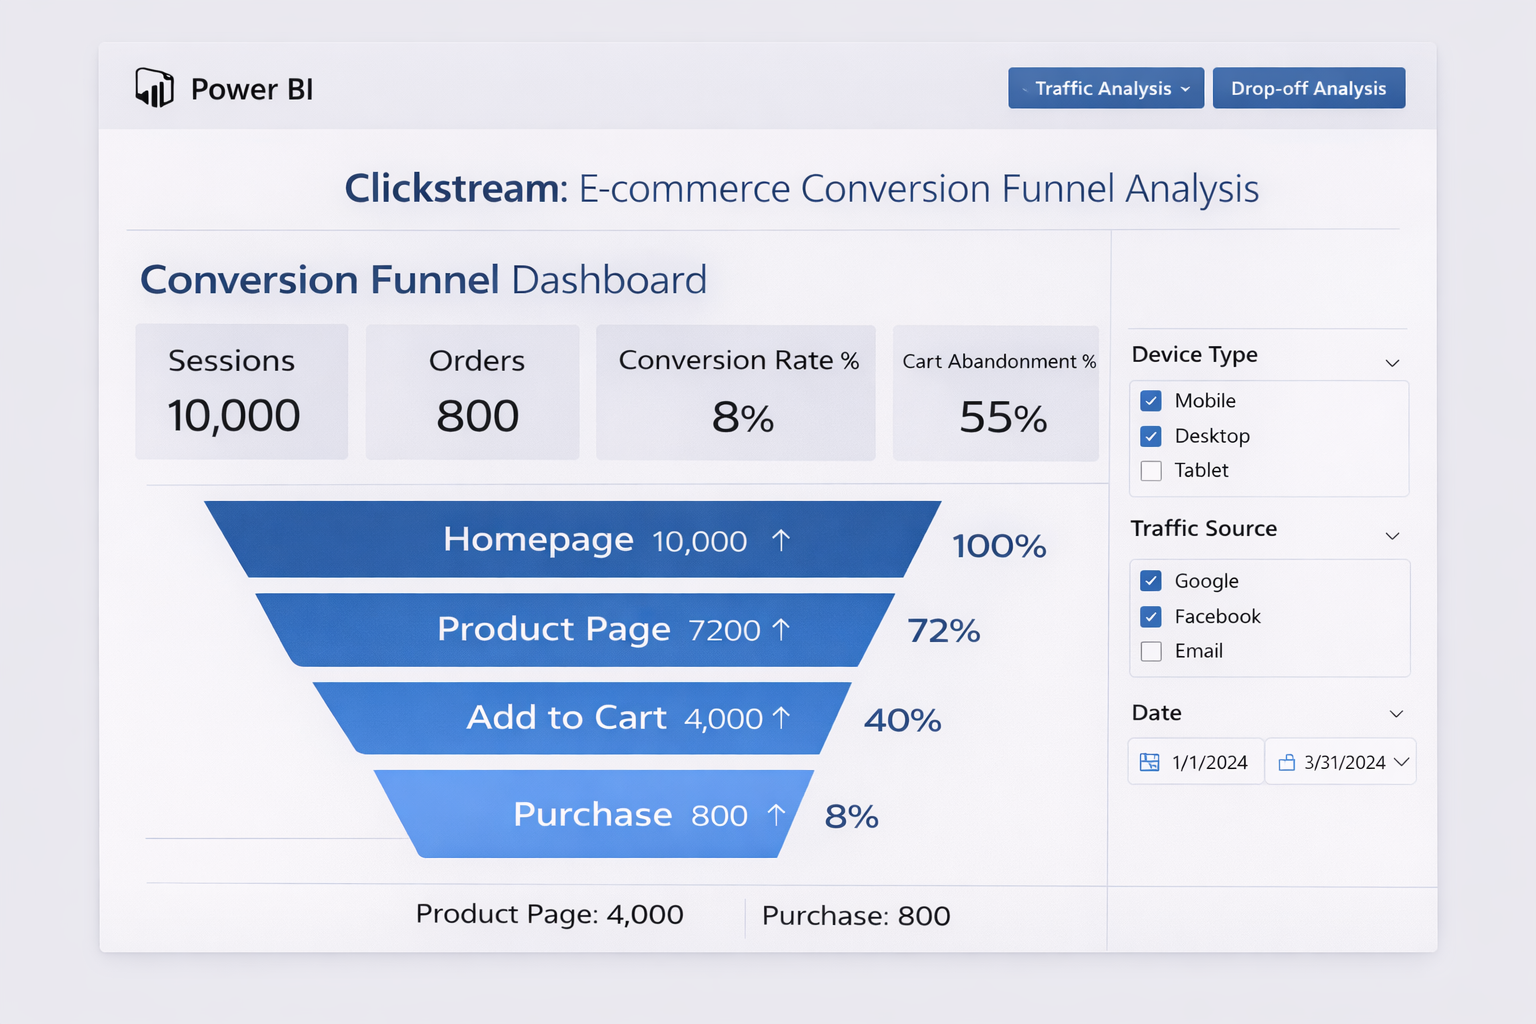

The dashboard page shown, as its layout file describes it:
{"tool":"powerbi","page":{"name":"Conversion Funnel","canvas":[1280,720],"ordinal":1},"visuals":[{"type":"card","fields":{"Values":["data_table.Sessions"]},"box":[30.2,40.3,280.5,280.5],"z":0},{"type":"clusteredColumnChart","fields":{"Y":["data_table.Orders"]},"box":[272.1,40.3,280.5,280.5],"z":1},{"type":"clusteredColumnChart","fields":{"Y":["data_table.Conversion Rate %"]},"box":[640,26.9,282.2,280.5],"z":2},{"type":"clusteredColumnChart","fields":{"Y":["data_table.Cart Abandonment Rate %"]},"box":[999.5,26.9,280.5,280.5],"z":3},{"type":"funnel","fields":{"Category":["webevents.event_type"],"Y":["data_table.Sessions"]},"box":[371.2,351.1,482.1,349.4],"z":4},{"type":"actionButton","box":[1179.2,680.3,100.8,40.3],"z":5}]}

Visuals, with their boxes on the page's 1280x720 design canvas (x1, y1, x2, y2). These are canvas units, not pixel positions in the 1536x1024 screenshot, which may show the page scaled, cropped or inside an application window:
card - data_table.Sessions: bbox=[30, 40, 311, 321]
clusteredColumnChart - data_table.Orders: bbox=[272, 40, 553, 321]
clusteredColumnChart - data_table.Conversion Rate %: bbox=[640, 27, 922, 307]
clusteredColumnChart - data_table.Cart Abandonment Rate %: bbox=[1000, 27, 1280, 307]
funnel - webevents.event_type x data_table.Sessions: bbox=[371, 351, 853, 700]
actionButton: bbox=[1179, 680, 1280, 721]
